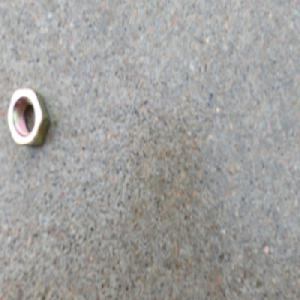Nut: (6, 86, 52, 149)
